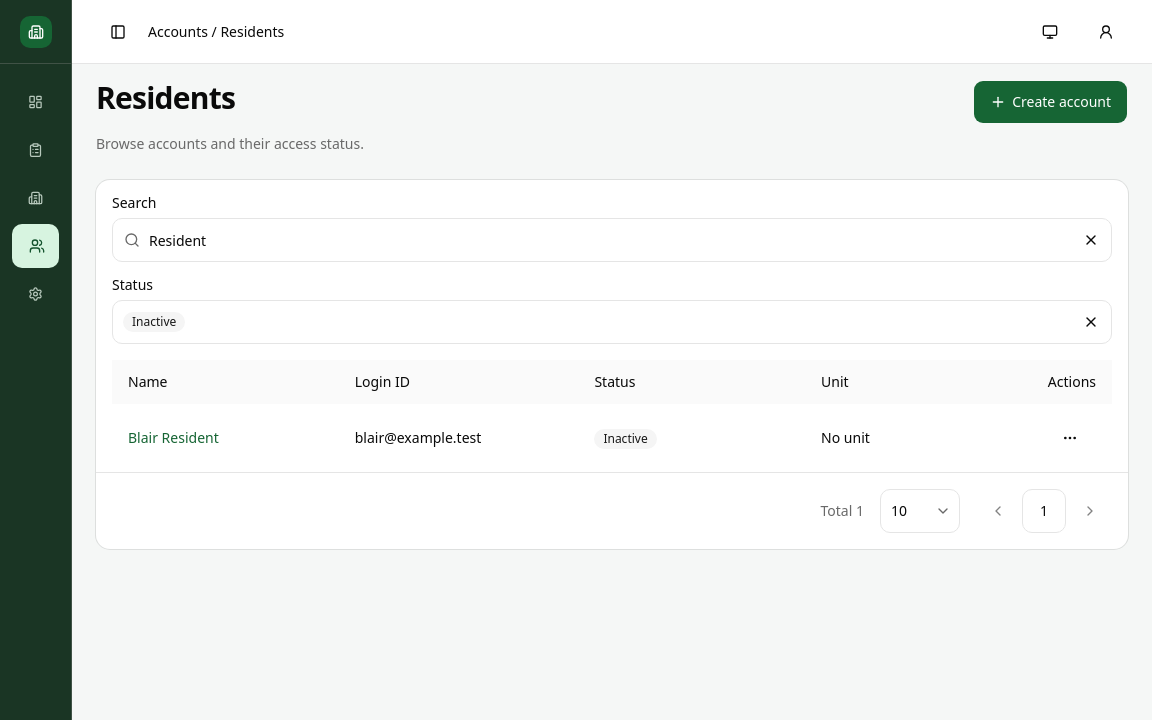
it: resets all filters when switching role views with collapsed sidebar true
Check: the table named "Residents" is shown, box [112,360,1112,472]
Click the button named "Accounts". click: (36, 246)
box: [12,224,59,268]
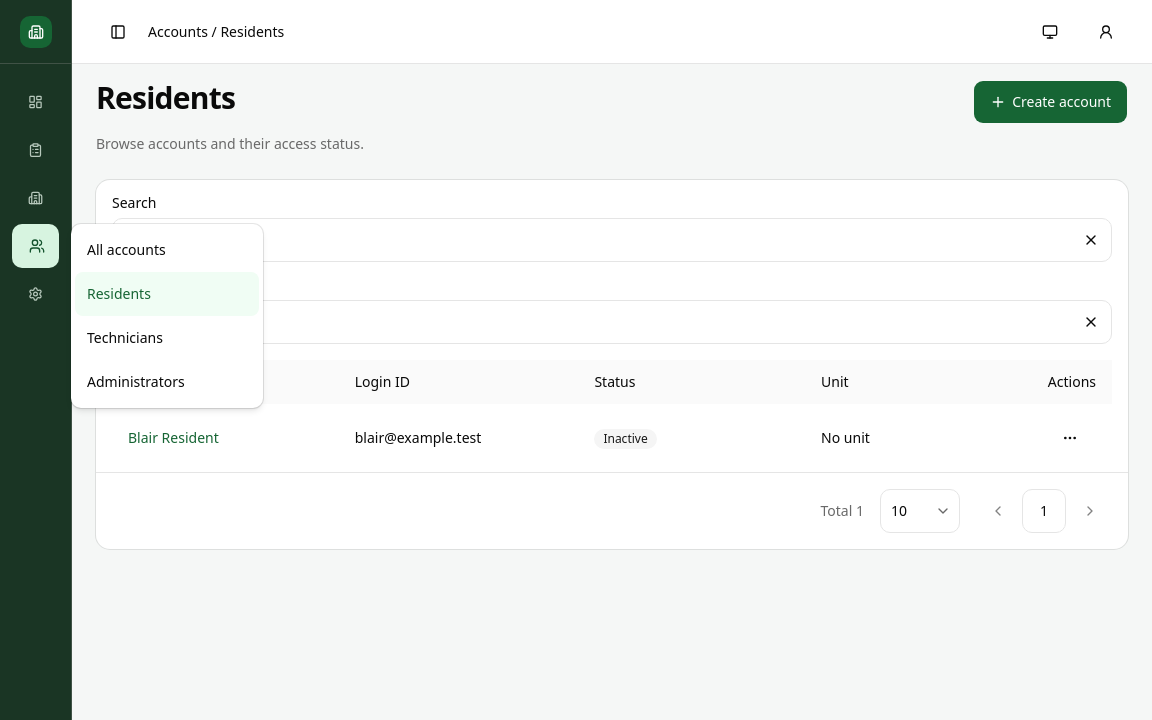
Click the menu item "Technicians". click: (125, 338)
box: [87,328,163,347]
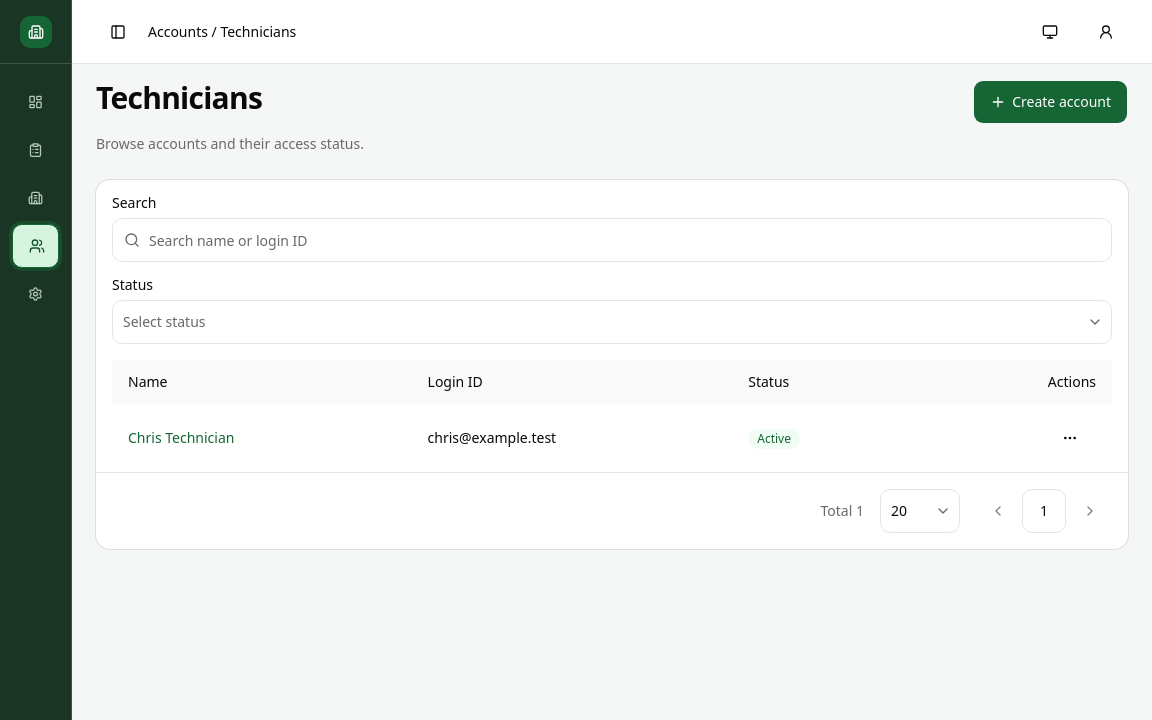
Check: the table named "Technicians" is shown, box [112,360,1112,472]
Check: the search field labelled "Search" is empty, box [112,218,1112,262]
Check: the dropdown labelled "status" shows "Select status", box [112,300,1112,344]
